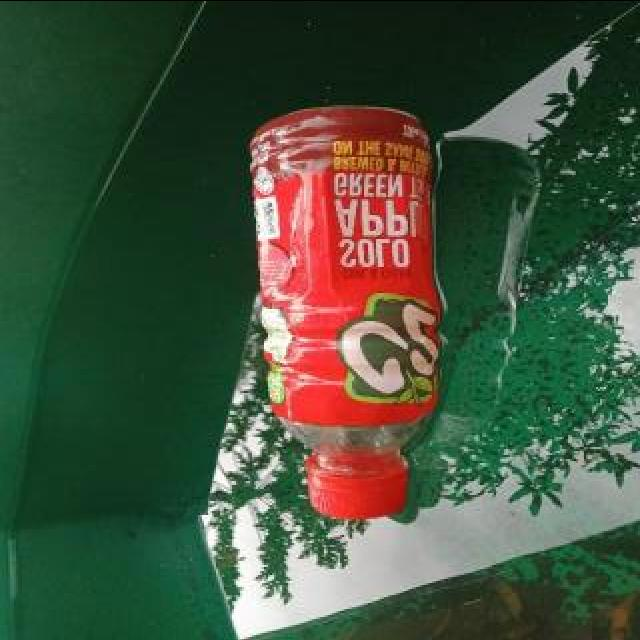Bottle: (238, 94, 454, 527)
